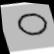no answer: (14, 8, 51, 40)
